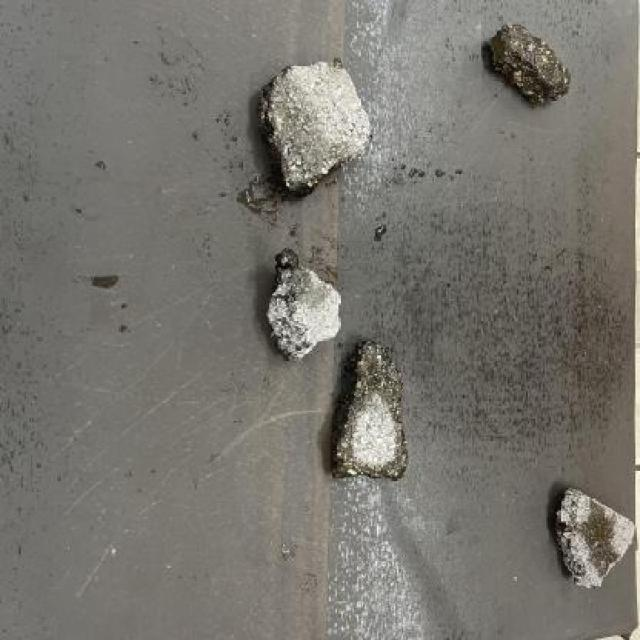Road Debris: (481, 22, 574, 115), (268, 77, 336, 194), (554, 508, 616, 578), (352, 333, 402, 413), (276, 260, 332, 318)
